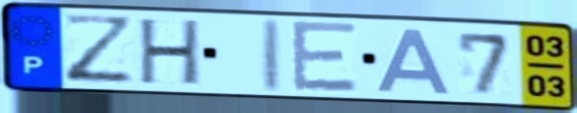7: (454, 31, 514, 96)
A: (374, 26, 457, 97)
E: (287, 18, 361, 95)
H: (137, 17, 204, 89)
I: (258, 16, 286, 94)
Z: (59, 11, 139, 85)
